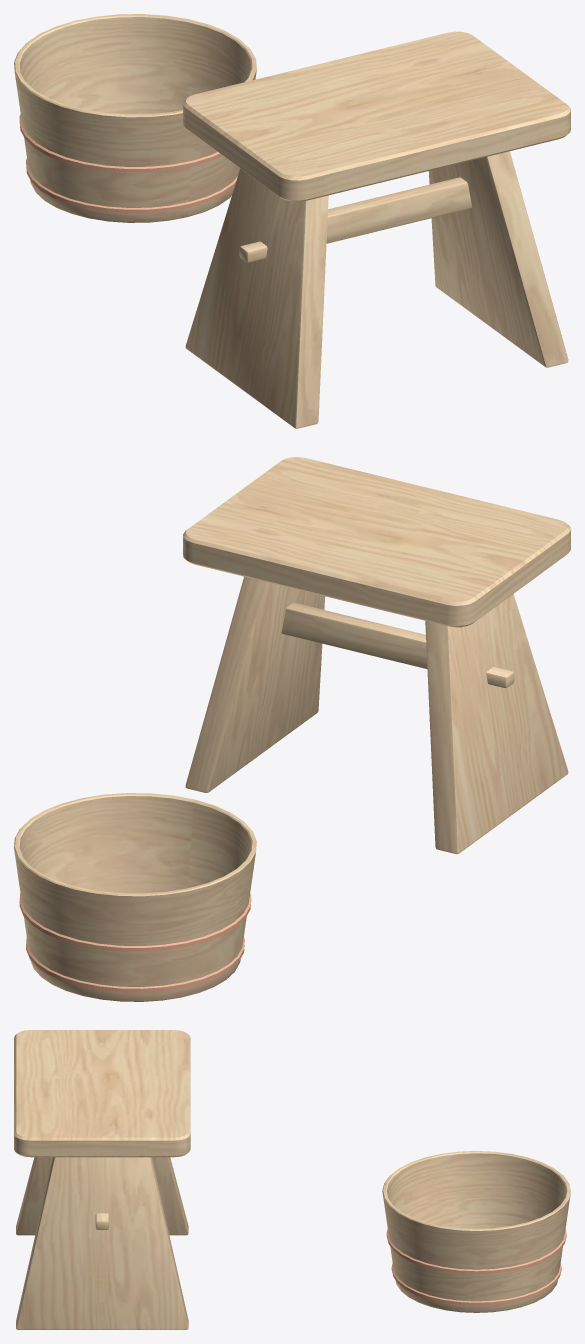
Rendered from bath_stool.glb.
The picture shows the model from 3 angles, top to bottom: view 1: azimuth 30°, elevation 25°; view 2: azimuth 150°, elevation 25°; view 3: azimuth 270°, elevation 25°; orthographic projection. The views are drawn at different scales.
Visible parts, largest first — view 1: onsen_stool_Interior_stool_onsen_01_4K_0, onsen_bucket_Interior_bucket_onsen_01_4K_0; view 2: onsen_stool_Interior_stool_onsen_01_4K_0, onsen_bucket_Interior_bucket_onsen_01_4K_0; view 3: onsen_stool_Interior_stool_onsen_01_4K_0, onsen_bucket_Interior_bucket_onsen_01_4K_0.
Part boxes in pixels (bbox=[...]): onsen_stool_Interior_stool_onsen_01_4K_0: bbox=[183, 31, 570, 428]; onsen_bucket_Interior_bucket_onsen_01_4K_0: bbox=[14, 14, 256, 222]; onsen_stool_Interior_stool_onsen_01_4K_0: bbox=[183, 457, 570, 854]; onsen_bucket_Interior_bucket_onsen_01_4K_0: bbox=[14, 793, 256, 1001]; onsen_stool_Interior_stool_onsen_01_4K_0: bbox=[14, 1030, 190, 1329]; onsen_bucket_Interior_bucket_onsen_01_4K_0: bbox=[382, 1151, 570, 1312].
Size of the model in its own units: 0.1769 by 0.147 by 0.3802.
2 materials, 2 textured.
